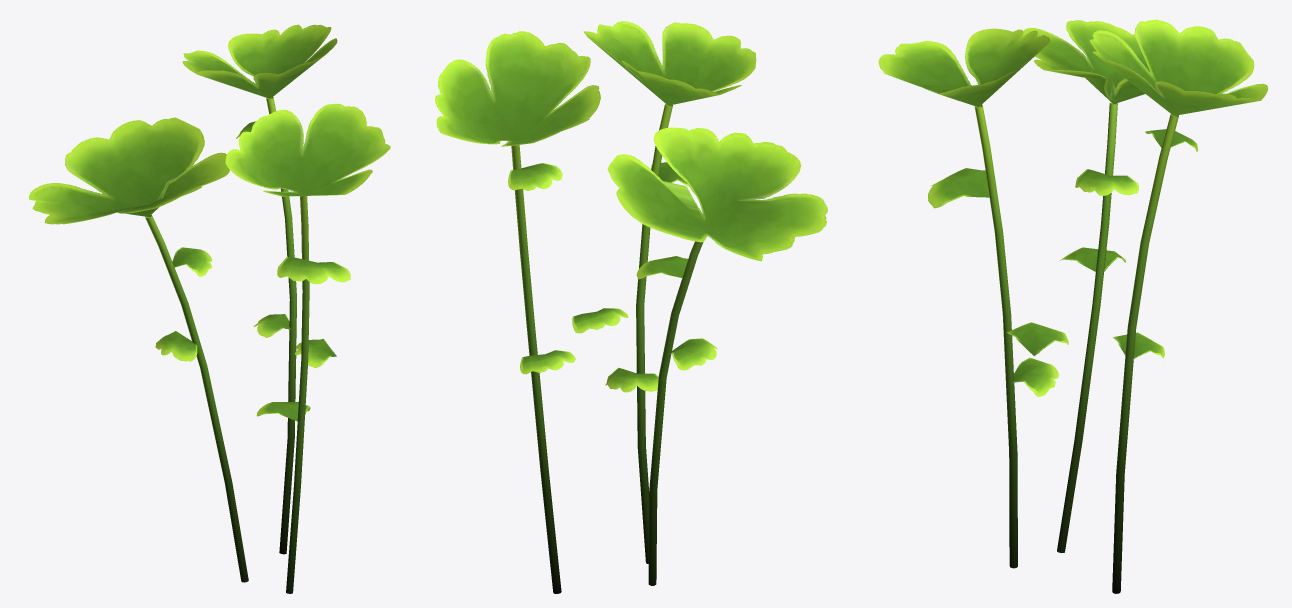
The model's file is Clover_1.gltf.
3 renders of one model, left to right at view 1: azimuth 30°, elevation 25°; view 2: azimuth 150°, elevation 25°; view 3: azimuth 270°, elevation 25°, orthographic. The views are drawn at different scales.
Parts seen in each view (by area): view 1: Clover_1; view 2: Clover_1; view 3: Clover_1.
Boxes of the visible parts, bbox=[...] form: Clover_1: bbox=[28, 24, 390, 593]; Clover_1: bbox=[435, 21, 827, 593]; Clover_1: bbox=[878, 19, 1267, 593].
Size of the model in its own units: 0.7963 by 1.14 by 0.7639.
1 material, 1 textured.
